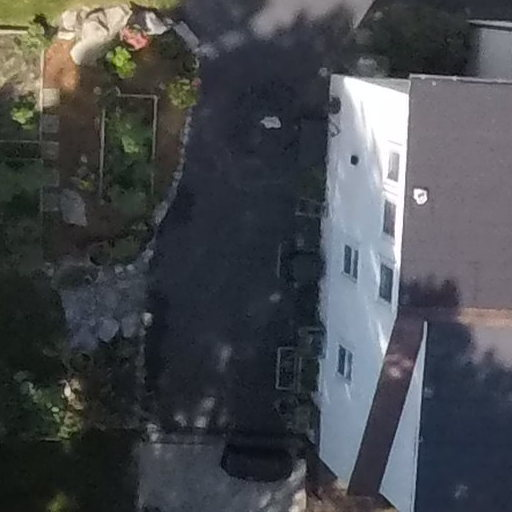barbecue: (212, 441, 303, 490)
container: (82, 238, 114, 272), (66, 347, 97, 375)
flower bed: (95, 79, 165, 223), (1, 18, 49, 149), (1, 157, 48, 267), (275, 342, 299, 398)
flower pot: (86, 241, 112, 270), (69, 350, 96, 376)
